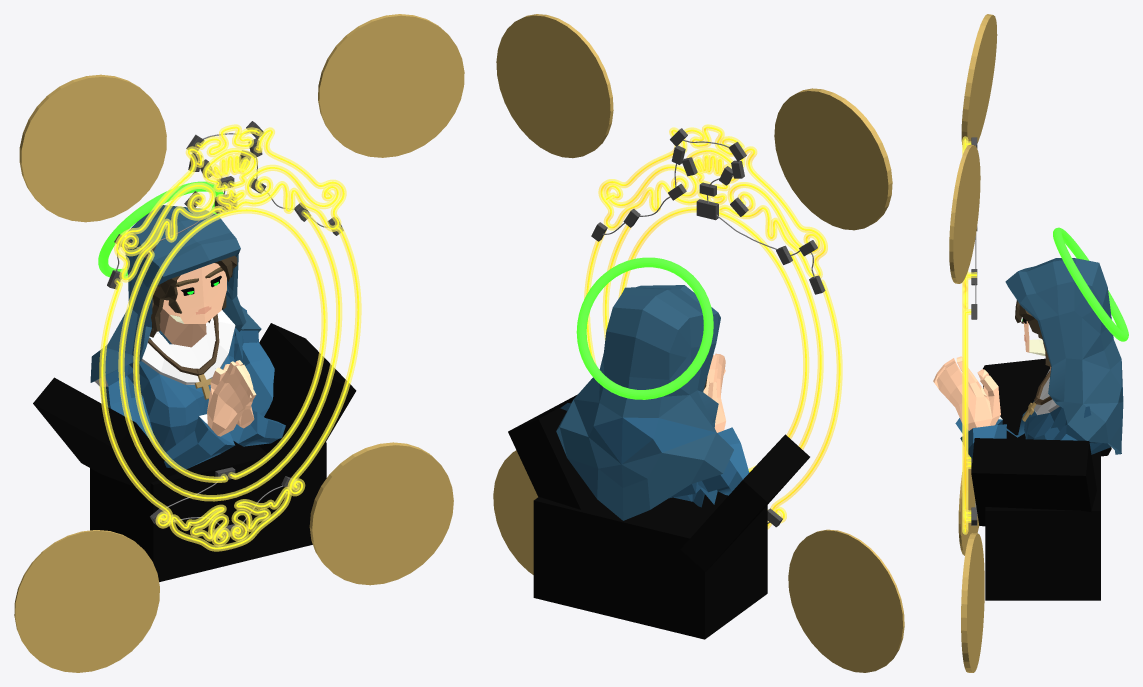
File: mobile_angel_coins3.glb
The picture shows the model from 3 angles, left to right: view 1: azimuth 30°, elevation 25°; view 2: azimuth 150°, elevation 25°; view 3: azimuth 270°, elevation 25°; orthographic projection. The views are drawn at different scales.
Visible parts, largest first — view 1: Glass, SK_Chr_Nun_01.007, Cube, Coin1, Coin3, Coin4, Coin2, Emissive, Cube.001, Cube.002, SK_Chr_Nun_01.015, Cubes (+3 smaller); view 2: SK_Chr_Nun_01.007, Cube, Glass, Coin3, Coin4, Coin1, Cube.002, Emissive, Cube.001, Halo, Coin2, Cubes (+1 smaller); view 3: SK_Chr_Nun_01.007, Cube, Cube.001, Coin3, Coin1, Cube.002, Coin2, Glass, Halo, Coin4, Emissive, SM_Chr_Hair_Female_06 (+2 smaller).
Boxes of the visible parts, x1,y1,x2,y2 form: Glass: [99, 124, 361, 551]; SK_Chr_Nun_01.007: [90, 205, 285, 469]; Cube: [90, 440, 326, 581]; Coin1: [19, 74, 166, 222]; Coin3: [318, 14, 464, 157]; Coin4: [14, 530, 159, 672]; Coin2: [309, 442, 453, 585]; Emissive: [101, 126, 359, 549]; Cube.001: [258, 323, 356, 481]; Cube.002: [33, 377, 176, 492]; SK_Chr_Nun_01.015: [141, 310, 235, 384]; Cubes: [107, 121, 343, 539]; SK_Chr_Nun_01.007: [556, 285, 749, 520]; Cube: [533, 491, 767, 639]; Glass: [584, 124, 842, 529]; Coin3: [496, 14, 613, 158]; Coin4: [788, 529, 904, 672]; Coin1: [774, 88, 892, 230]; Cube.002: [680, 434, 809, 571]; Emissive: [586, 126, 840, 525]; Cube.001: [508, 394, 597, 509]; Halo: [576, 257, 713, 399]; Coin2: [493, 450, 537, 574]; Cubes: [591, 128, 825, 527]; SK_Chr_Nun_01.007: [933, 258, 1123, 459]; Cube: [985, 451, 1100, 600]; Cube.001: [971, 438, 1096, 526]; Coin3: [949, 144, 980, 283]; Coin1: [961, 14, 997, 144]; Cube.002: [983, 358, 1111, 456]; Coin2: [961, 533, 984, 672]; Glass: [962, 136, 977, 534]; Halo: [1053, 227, 1128, 341]; Coin4: [958, 454, 979, 555]; Emissive: [964, 138, 976, 532]; SM_Chr_Hair_Female_06: [1015, 300, 1050, 366].
Size of the model in its own units: 1.38 by 1.8 by 0.5994.
20 materials, 2 textured.
